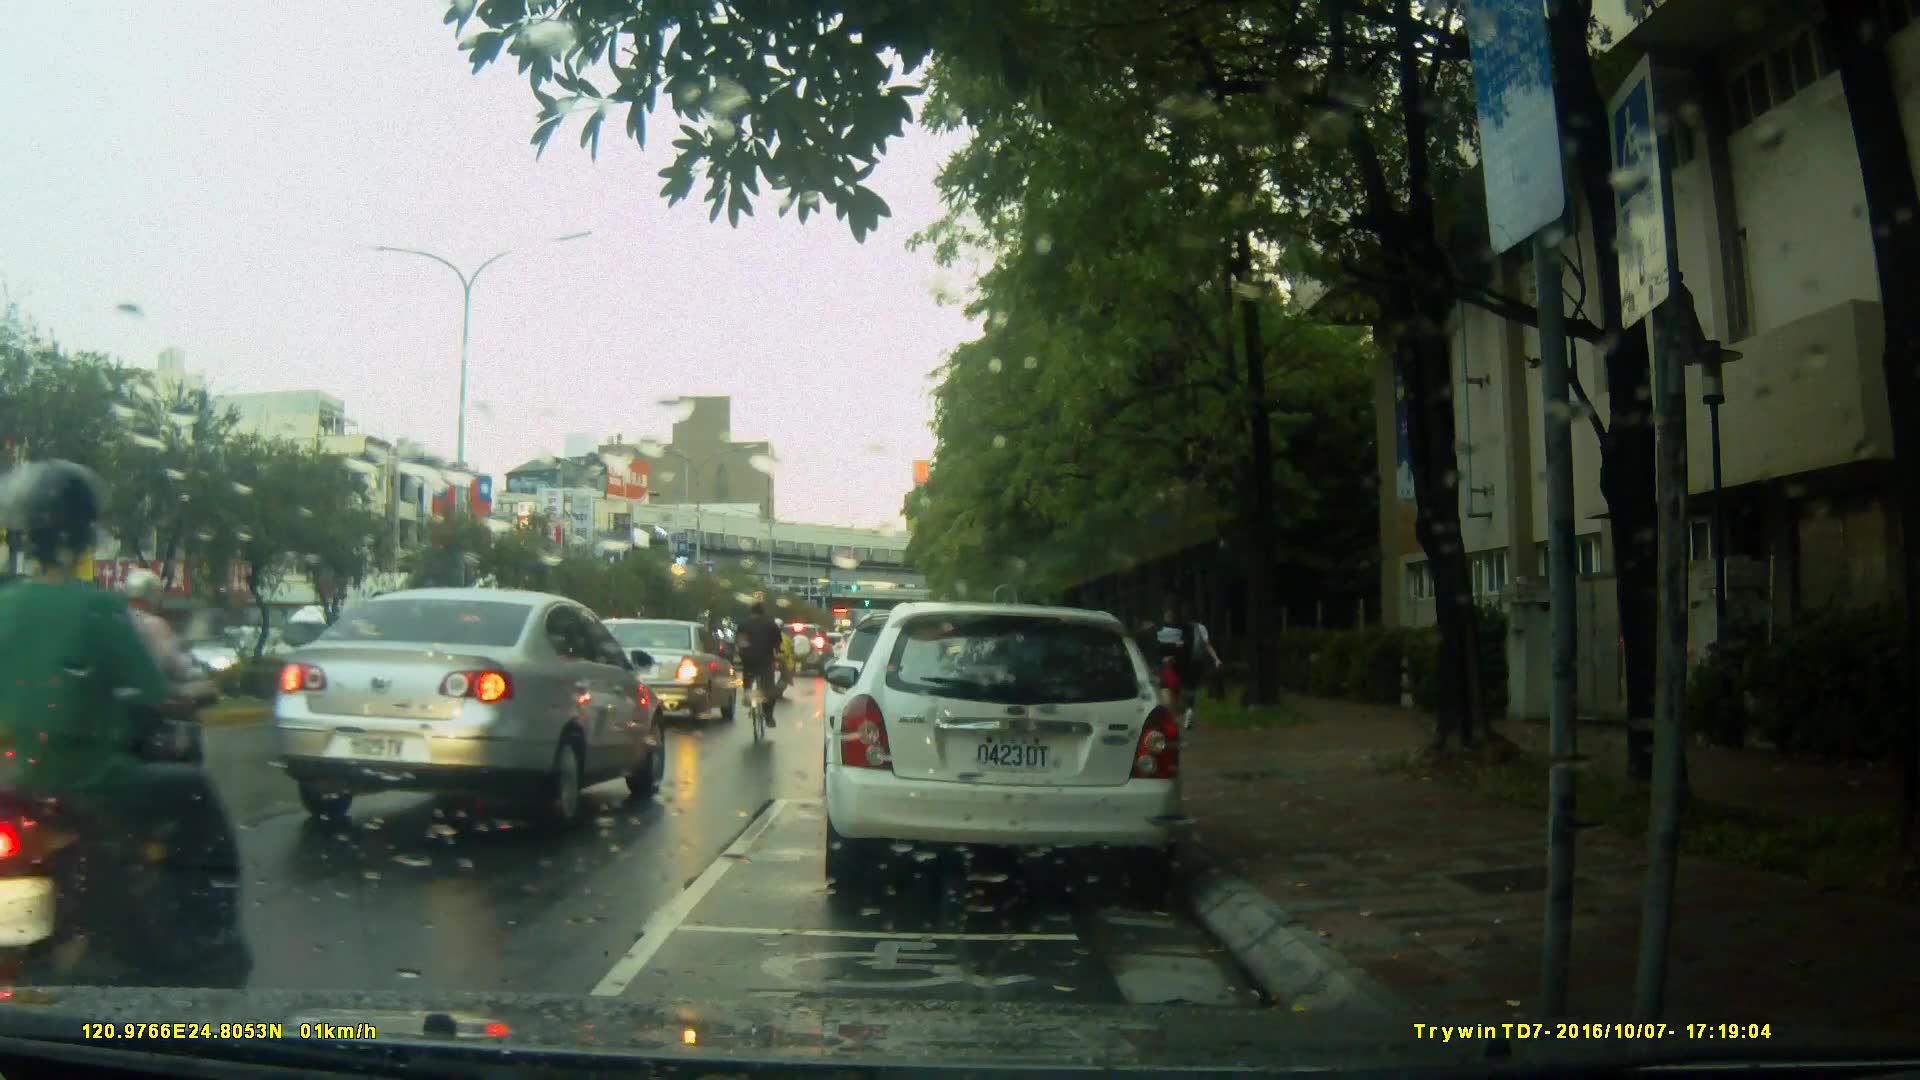pedestrian: (1160, 598, 1211, 735), (1150, 604, 1199, 719)
rider: (1, 460, 253, 1036), (733, 600, 786, 760), (765, 614, 800, 703)
vehicle: (820, 602, 1188, 898), (270, 586, 672, 837), (575, 618, 739, 731), (134, 634, 239, 689)
